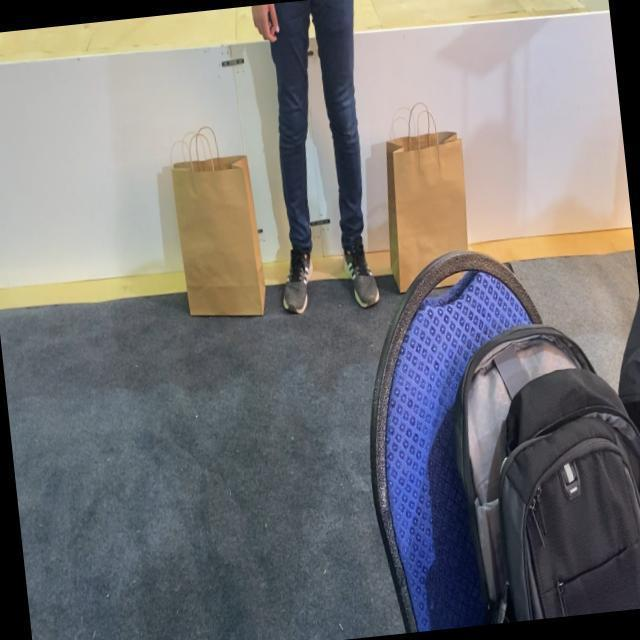Paper_Bag: (167, 121, 268, 322), (373, 98, 477, 293)
